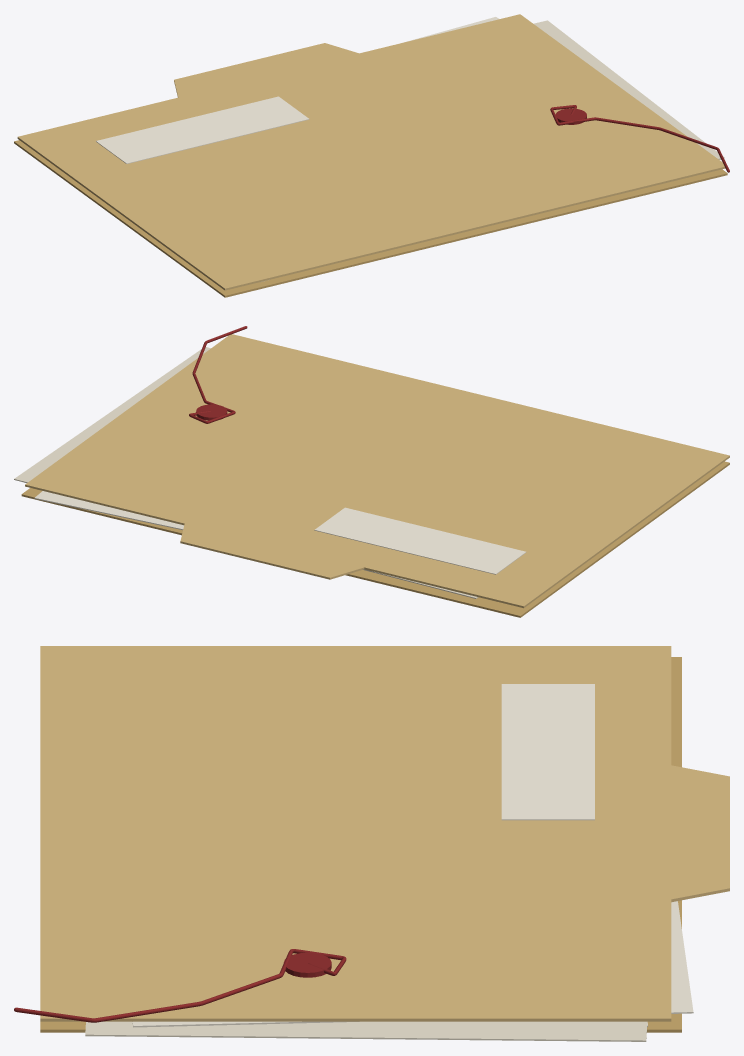
The model's file is folder.fbx.
3 views of the same model, one above another, from view 1: azimuth 30°, elevation 25°; view 2: azimuth 150°, elevation 25°; view 3: azimuth 270°, elevation 25° (orthographic). The views are drawn at different scales.
Parts seen in each view (by area): view 1: cover, label, back, sheet.001, string; view 2: cover, label, back, sheet.001, sheet.002, string; view 3: cover, label, sheet.001, sheet.002, back, string, button.
Part boxes in pixels (bbox=[...]): cover: bbox=[17, 14, 725, 290]; label: bbox=[96, 96, 309, 163]; back: bbox=[14, 140, 727, 297]; sheet.001: bbox=[533, 20, 724, 159]; string: bbox=[550, 105, 729, 172]; cover: bbox=[25, 334, 729, 608]; label: bbox=[314, 507, 526, 574]; back: bbox=[21, 461, 729, 617]; sheet.001: bbox=[14, 347, 478, 598]; sheet.002: bbox=[34, 491, 183, 529]; string: bbox=[189, 326, 247, 423]; cover: bbox=[40, 646, 729, 1021]; label: bbox=[501, 684, 594, 820]; sheet.001: bbox=[85, 1021, 647, 1041]; sheet.002: bbox=[132, 901, 693, 1027]; back: bbox=[40, 657, 681, 1032]; string: bbox=[14, 949, 346, 1022]; button: bbox=[283, 952, 331, 977].
Bounding box in the file's own units: 0.3427 × 0.00803 × 0.2679.
